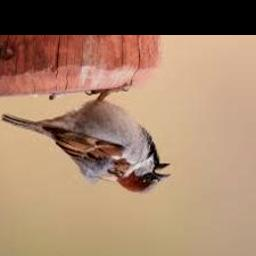Sparrow: (2, 82, 172, 195)
